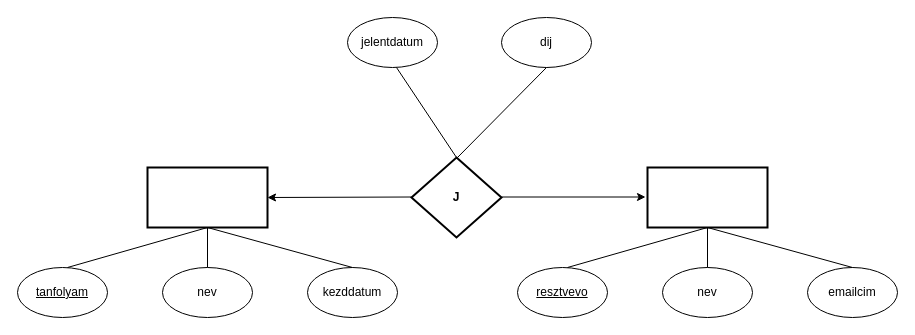
Image size: 915x335. Some labels were removed from this diagram. The shapes that lost their labels are listed below. From the top down, each one's centre as x and y in pixels, then its label:
the point at 207,197: Jelentkező
the point at 707,197: Résztvevő
